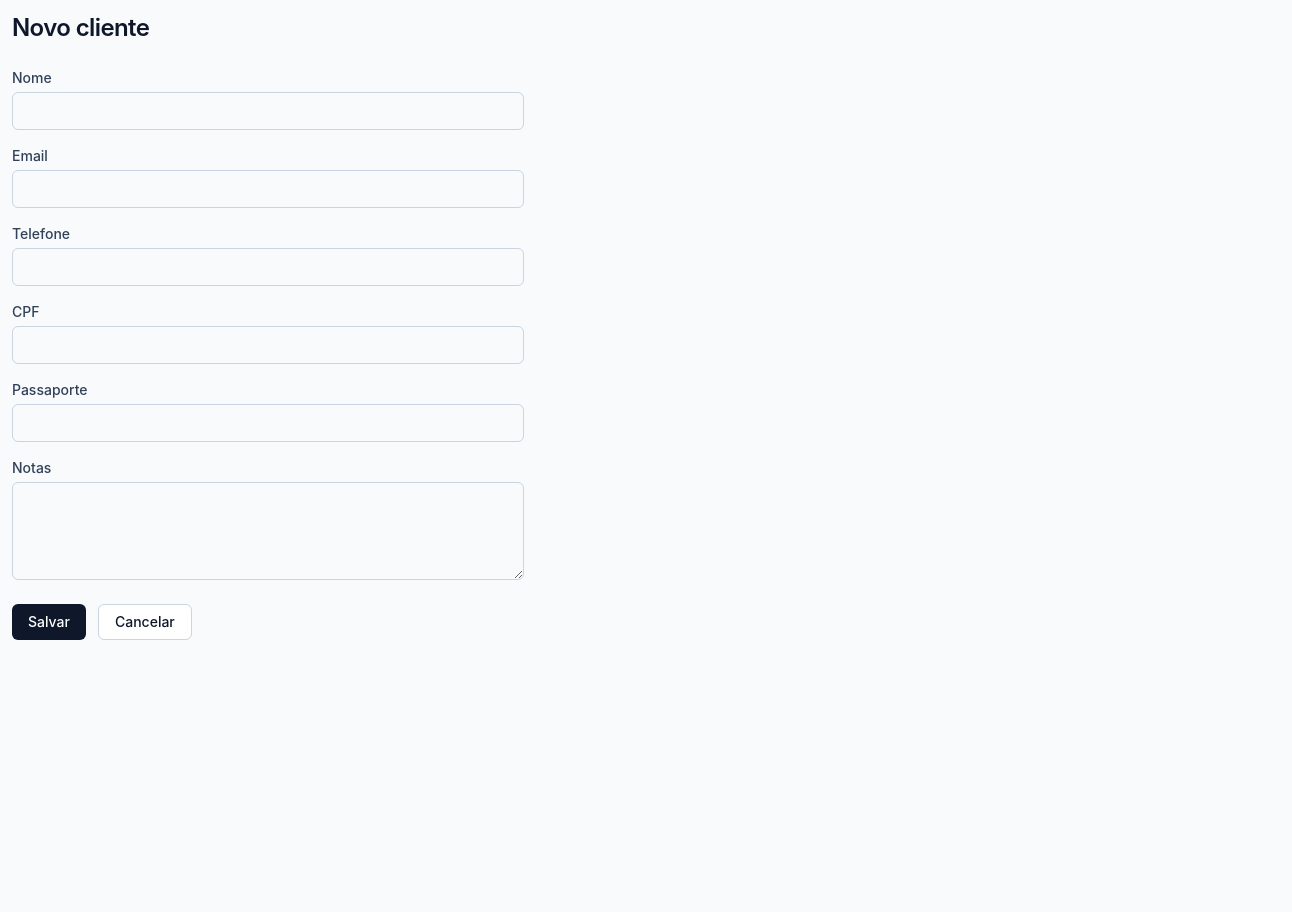
Test: CustomerFormPage › 409 error shows a friendly conflict message
Type "Maria Silva" into the field labelled "Nome" at x=268, y=111, box [12,92,524,130]
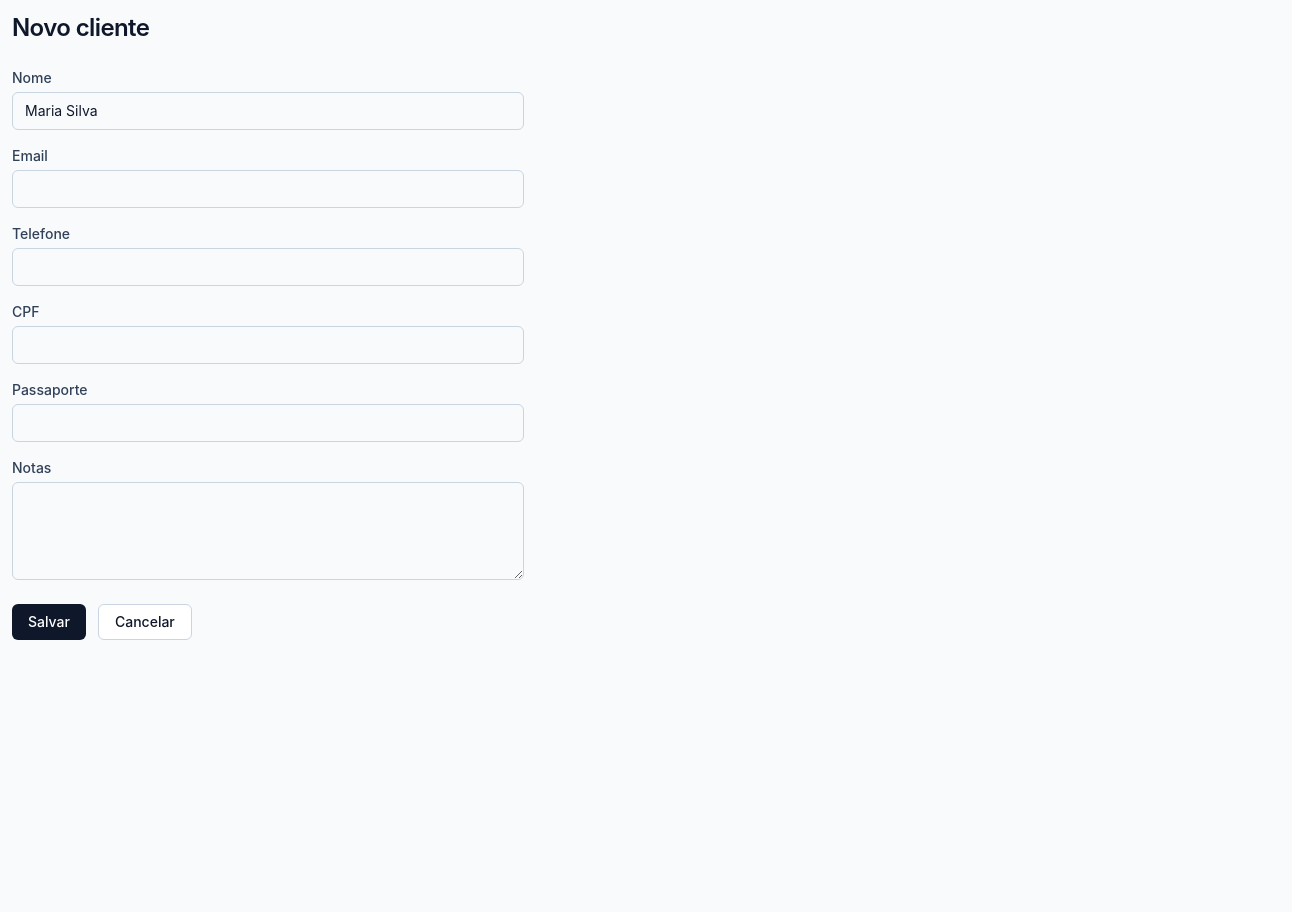
Click the button "Salvar" at x=49, y=622, box [12,604,86,640]
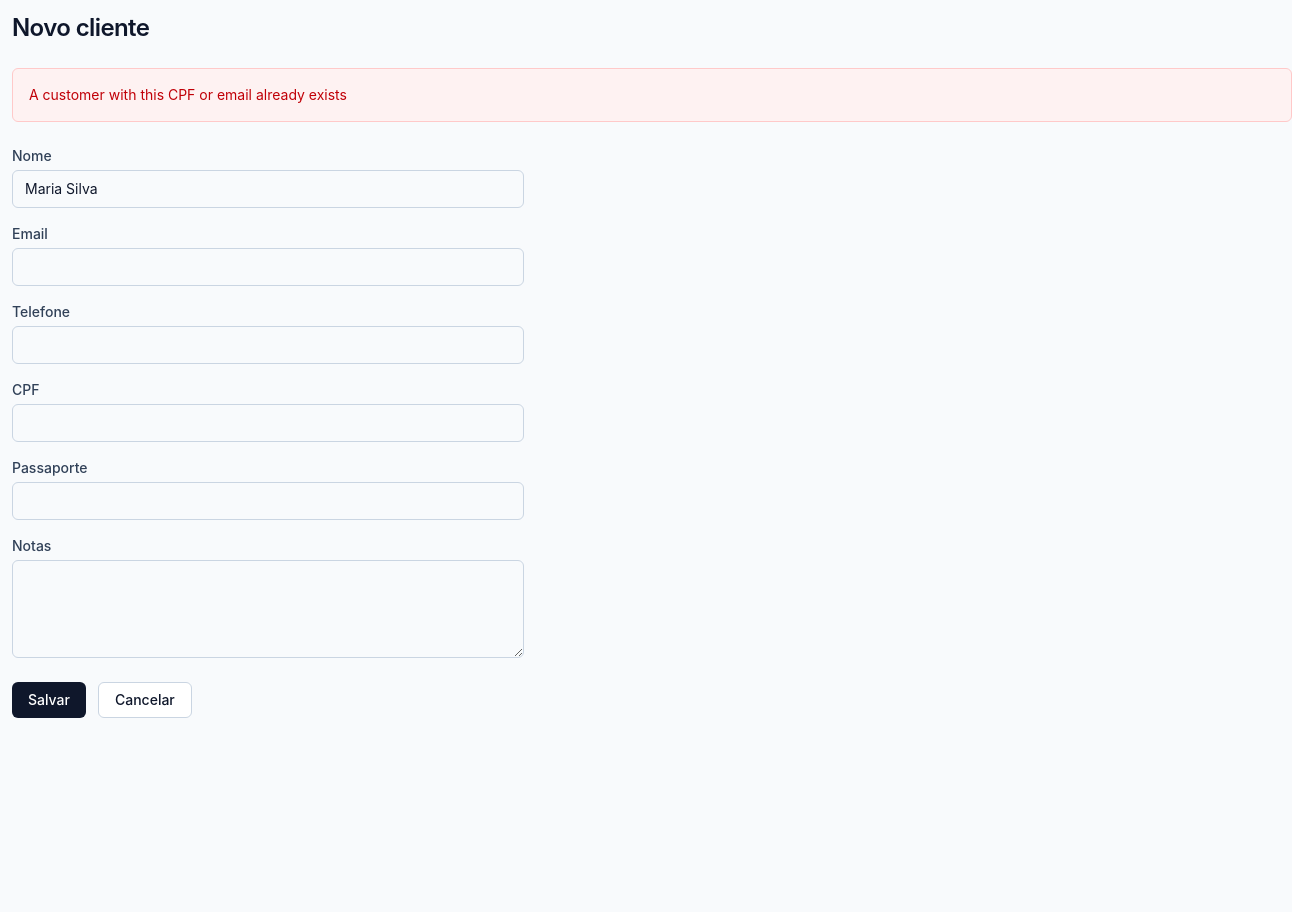
Check: the text "A customer with this CPF or email already exists" is shown, box [12,68,1291,122]
